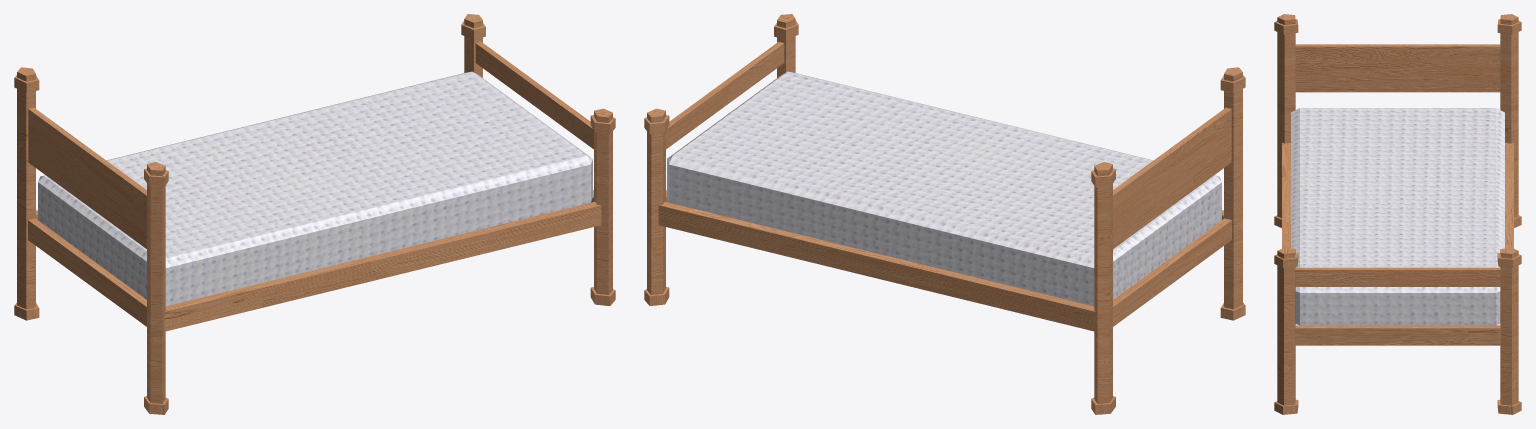
File: CAMA.obj
3 views of the same model, side by side, from view 1: azimuth 30°, elevation 25°; view 2: azimuth 150°, elevation 25°; view 3: azimuth 270°, elevation 25° (orthographic). The views are drawn at different scales.
Parts seen in each view (by area): view 1: cama02:cox_o1; view 2: cama02:cox_o1; view 3: cama02:cox_o1.
Boxes of the visible parts, box(x1,y1,x2,y2) form: cama02:cox_o1: box(14, 14, 615, 414); cama02:cox_o1: box(644, 14, 1245, 414); cama02:cox_o1: box(1274, 14, 1521, 414).
Bounding box in the file's own units: 2.54 × 1.27 × 1.37.
2 materials, 2 textured.
